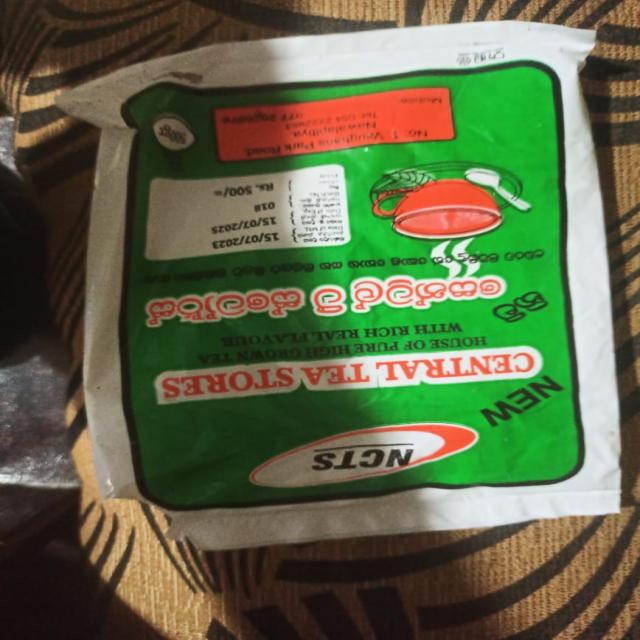Central Tea: (56, 50, 640, 556)
